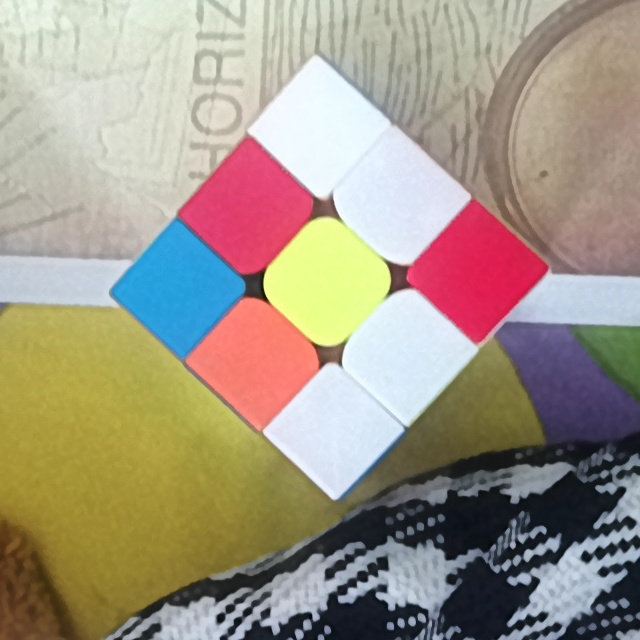tile: (289, 247, 363, 319), (220, 324, 291, 399), (375, 317, 446, 388), (363, 165, 430, 240), (441, 238, 514, 306), (280, 97, 354, 164), (303, 391, 366, 467), (212, 180, 281, 249), (144, 257, 215, 323)
